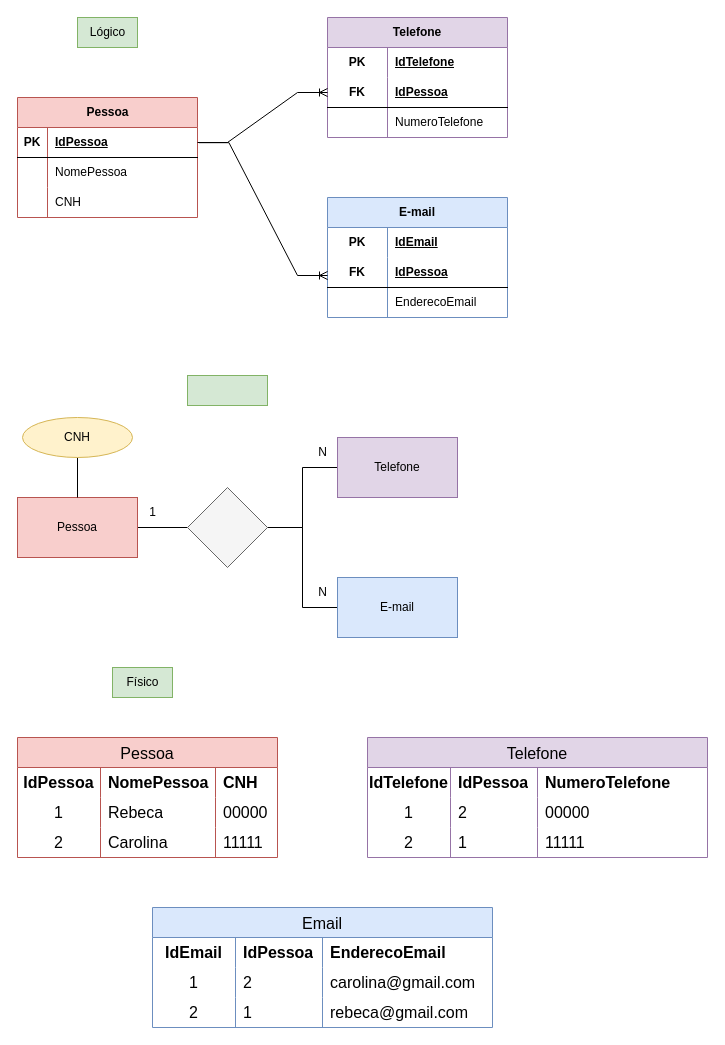
Some shapes in this 725 by 1045 pixel diagram are drawn without their labels. Each missing label, with the centre of its shape:
Conceitual: pixel 227 390
Possui: pixel 227 527
